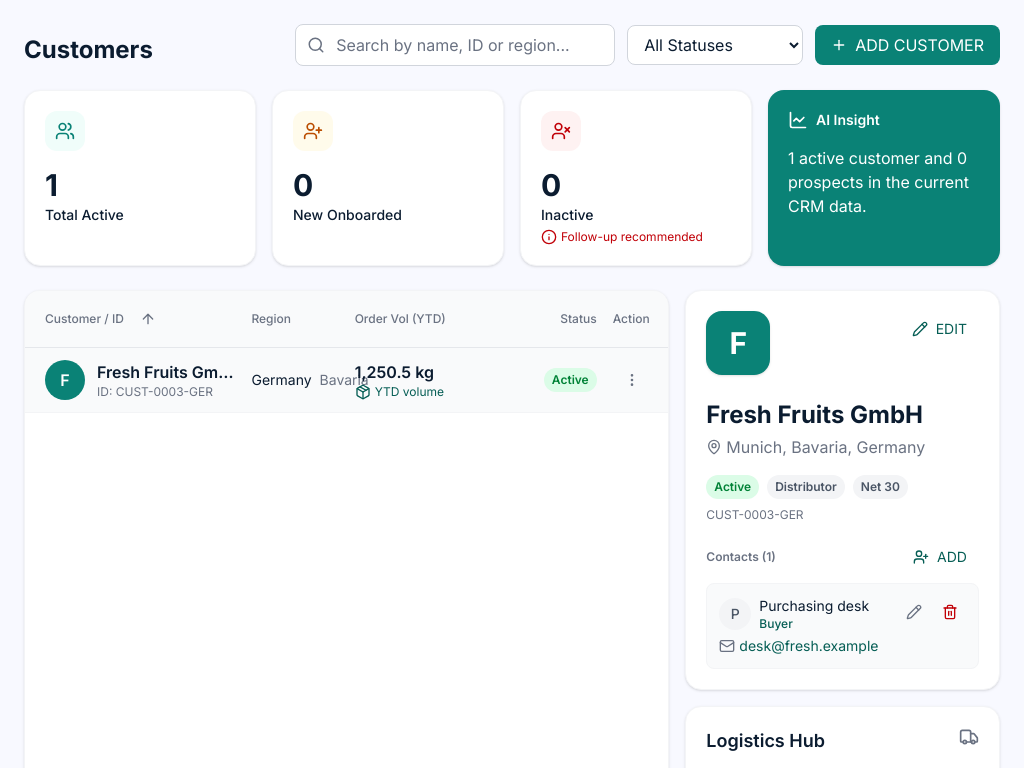
CustomersPage › fills the edit form from the single customer fetch, not from the list row
This screenshot has width=1024, height=768.
Step 1. Click the button named "Actions for Fresh Fruits GmbH" → (632, 380), box [616,364,648,396]
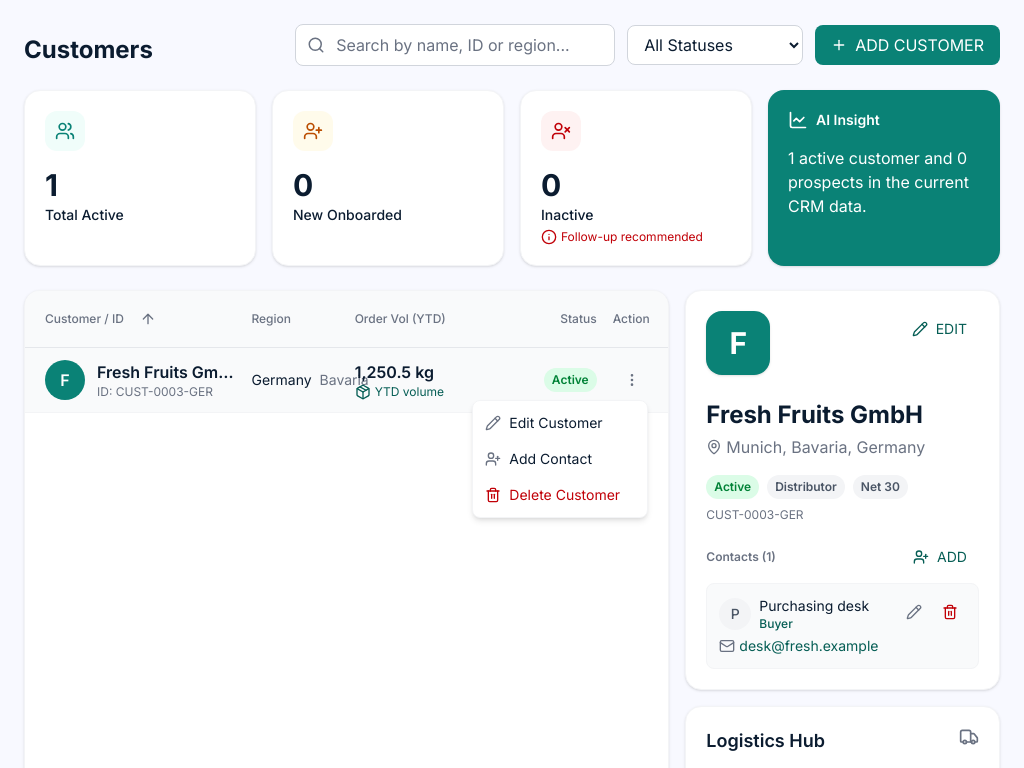
Step 2. Click the menu item "Edit Customer" → (560, 423), box [473,405,647,441]
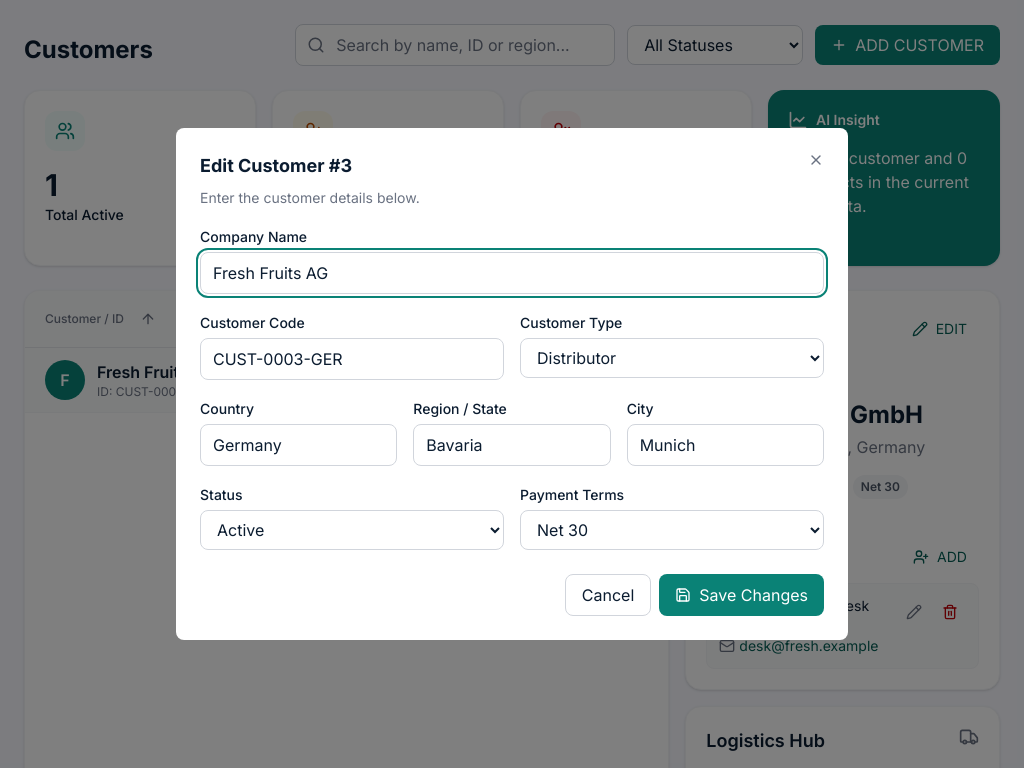
Expected: the field labelled "Company Name" holds "Fresh Fruits AG", [200,252,824,294]
